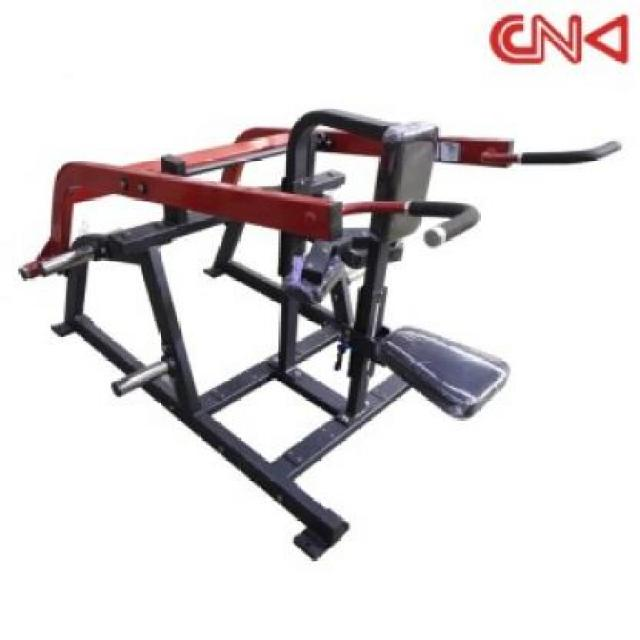seated dip machine: (20, 106, 623, 562)
